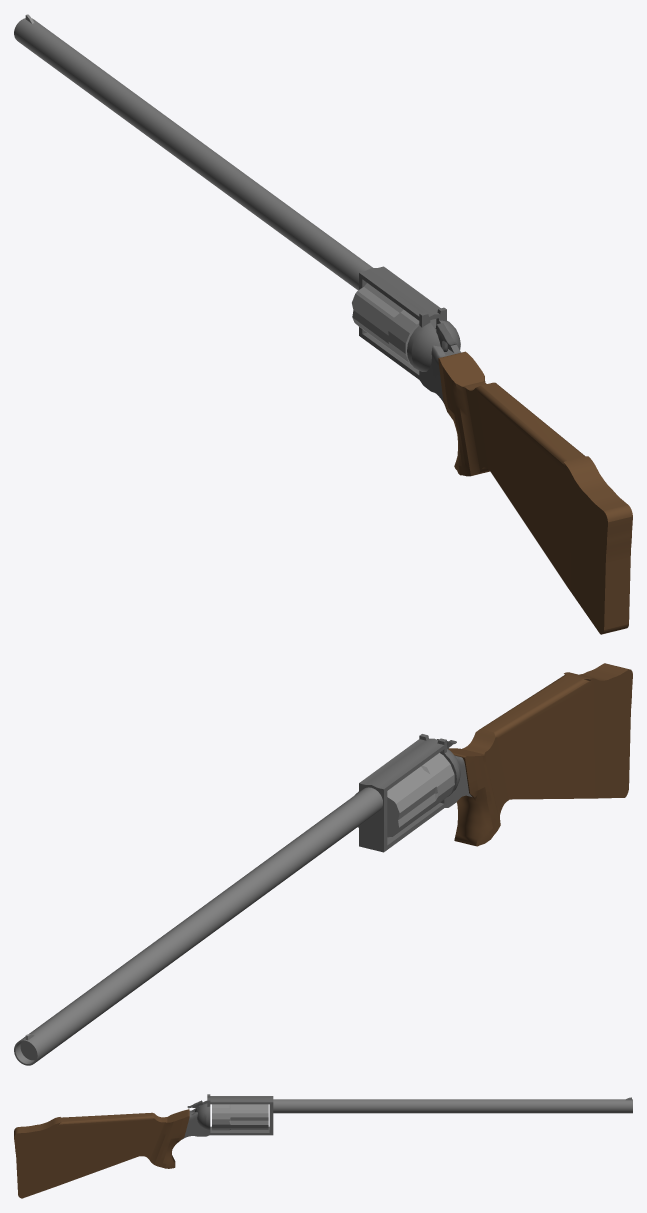
File: Shotgun1.glb
The picture shows the model from 3 angles, top to bottom: view 1: azimuth 30°, elevation 25°; view 2: azimuth 150°, elevation 25°; view 3: azimuth 270°, elevation 25°; orthographic projection. The views are drawn at different scales.
Visible parts, largest first — view 1: Stock, Barrel, Revolver box, Revolver; view 2: Stock, Barrel, Revolver box, Revolver; view 3: Stock, Barrel, Revolver box, Revolver.
Boxes of the visible parts, x1=… form: Stock: x1=438, y1=351, x2=632, y2=634; Barrel: x1=14, y1=18, x2=372, y2=290; Revolver box: x1=359, y1=266, x2=461, y2=402; Revolver: x1=352, y1=283, x2=436, y2=365; Stock: x1=448, y1=663, x2=632, y2=846; Barrel: x1=14, y1=787, x2=382, y2=1065; Revolver box: x1=359, y1=734, x2=471, y2=852; Revolver: x1=354, y1=753, x2=454, y2=837; Stock: x1=14, y1=1109, x2=189, y2=1198; Barrel: x1=273, y1=1099, x2=632, y2=1113; Revolver box: x1=181, y1=1094, x2=273, y2=1139; Revolver: x1=212, y1=1104, x2=268, y2=1130.
Bounding box in the file's own units: 2 × 7.19 × 41.17.
